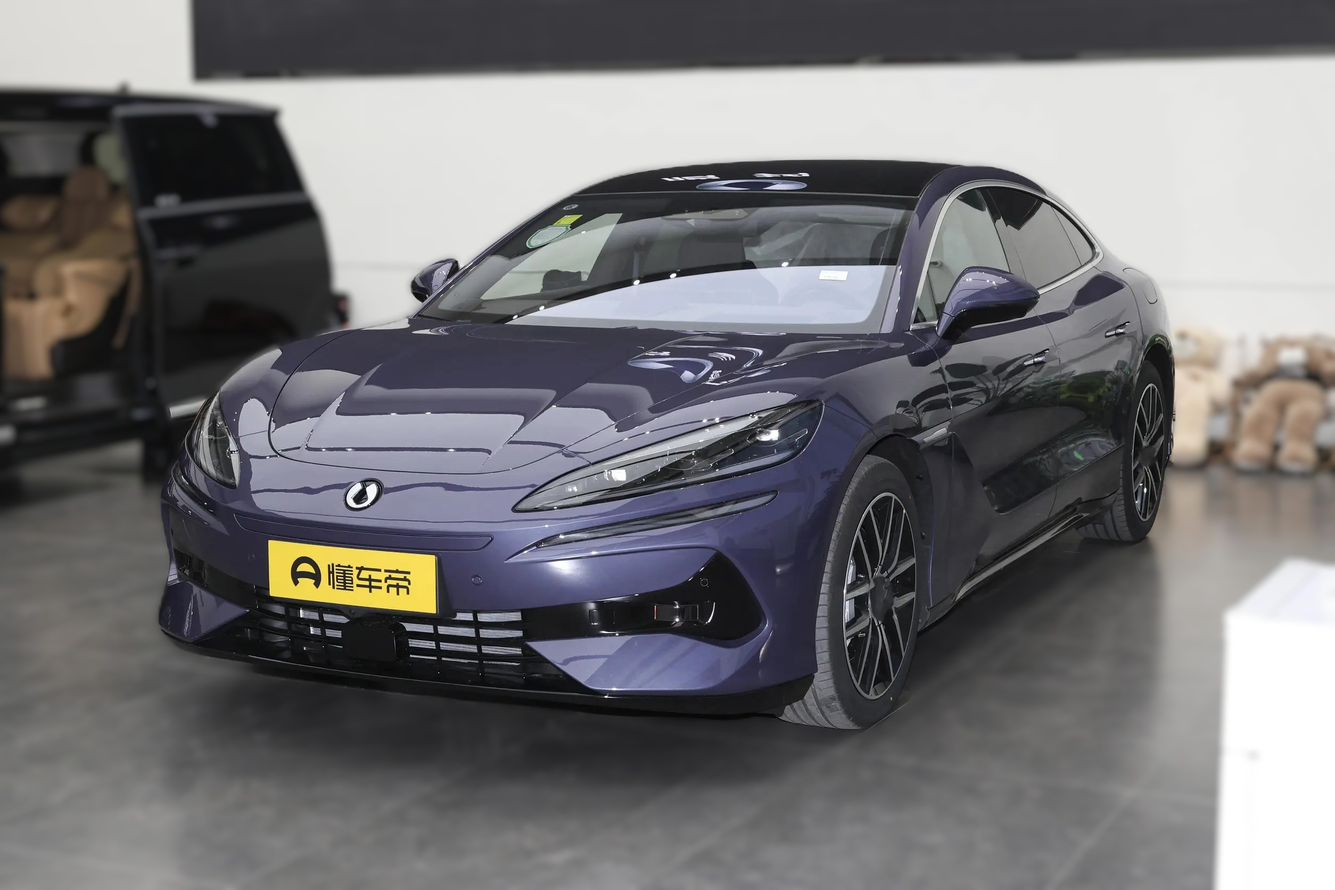DENZA: (347, 482, 377, 507)
